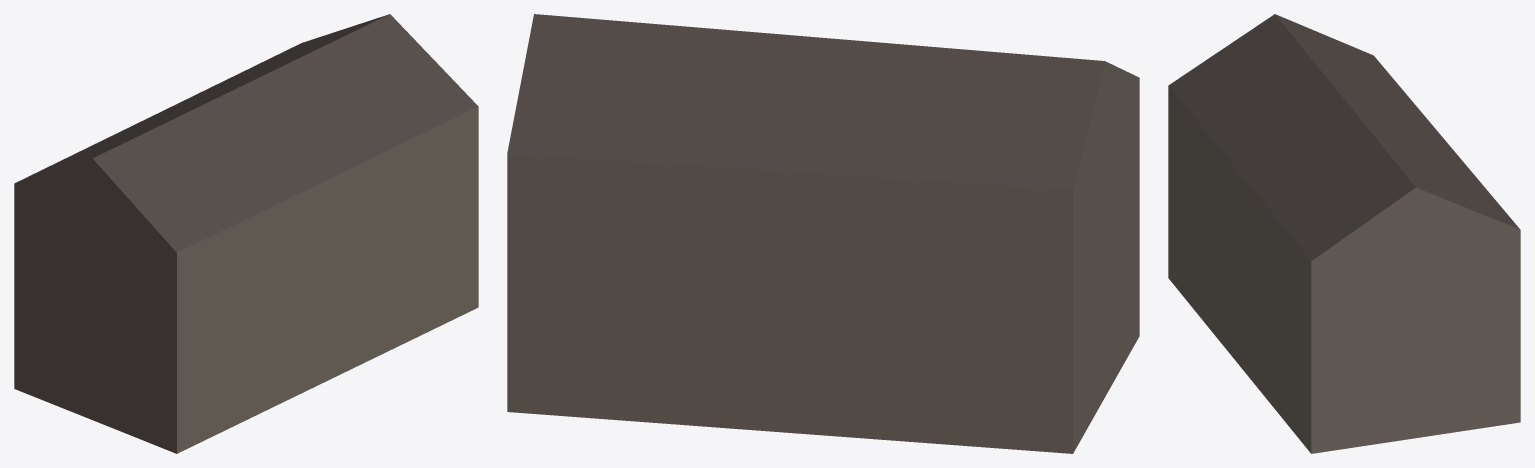
3 renders of one model, left to right at view 1: azimuth 30°, elevation 25°; view 2: azimuth 150°, elevation 25°; view 3: azimuth 270°, elevation 25°, orthographic. The views are drawn at different scales.
Parts seen in each view (by area): view 1: HP-w1198842225; view 2: HP-w1198842225; view 3: HP-w1198842225.
Boxes of the visible parts, x1,y1,x2,y2 form: HP-w1198842225: (14, 14, 478, 453); HP-w1198842225: (507, 14, 1139, 453); HP-w1198842225: (1168, 14, 1520, 453).
Bounding box in the file's own units: 13.47 × 7.81 × 9.95.
